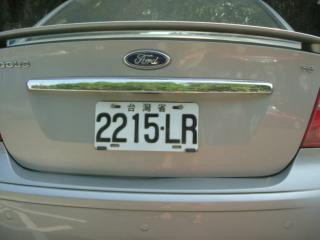plate: (91, 98, 201, 154)
